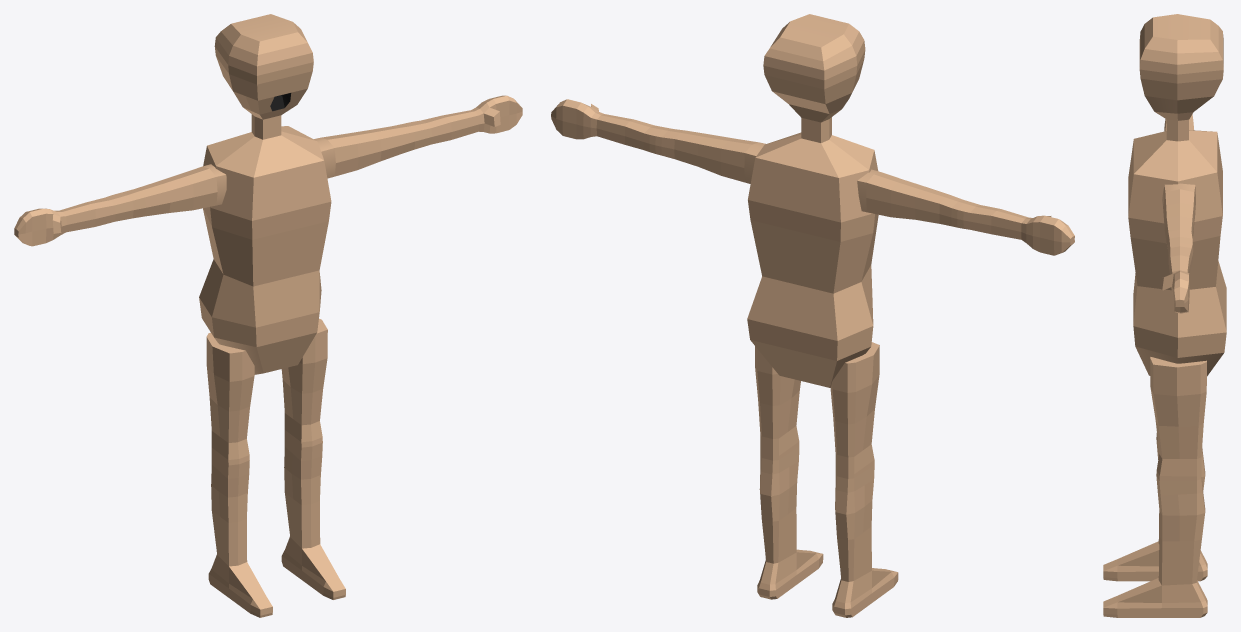
Rendered from pla_001.FBX.
The picture shows the model from 3 angles, left to right: view 1: azimuth 30°, elevation 25°; view 2: azimuth 150°, elevation 25°; view 3: azimuth 270°, elevation 25°; orthographic projection. The views are drawn at different scales.
Visible parts, largest first — view 1: Tit_body, Tit_legR, Tit_legL, Tit_armL, Tit_armR; view 2: Tit_body, Tit_legR, Tit_legL, Tit_armL, Tit_armR; view 3: Tit_body, Tit_legL, Tit_armR, Tit_legR.
Boxes of the visible parts, left/top/right/bottom form: Tit_body: left=199, top=14, right=331, bottom=374; Tit_legR: left=206, top=332, right=272, bottom=617; Tit_legL: left=281, top=318, right=345, bottom=599; Tit_armL: left=14, top=164, right=226, bottom=246; Tit_armR: left=314, top=95, right=522, bottom=178; Tit_body: left=747, top=14, right=878, bottom=387; Tit_legR: left=830, top=342, right=898, bottom=617; Tit_legL: left=755, top=346, right=823, bottom=599; Tit_armL: left=857, top=169, right=1074, bottom=255; Tit_armR: left=551, top=99, right=765, bottom=183; Tit_body: left=1128, top=14, right=1226, bottom=376; Tit_legL: left=1103, top=357, right=1207, bottom=617; Tit_armR: left=1160, top=183, right=1195, bottom=313; Tit_legR: left=1103, top=433, right=1207, bottom=581.
Size of the model in its own units: 65.24 by 68.39 by 13.48.
